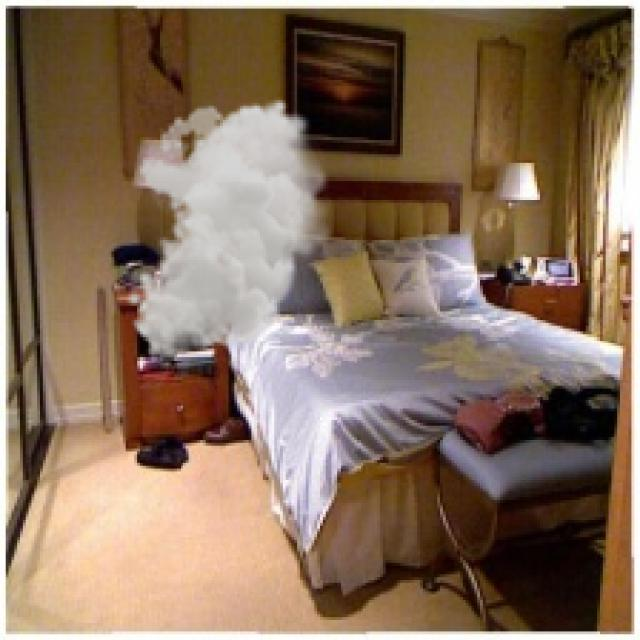smoke: (126, 97, 337, 360)
